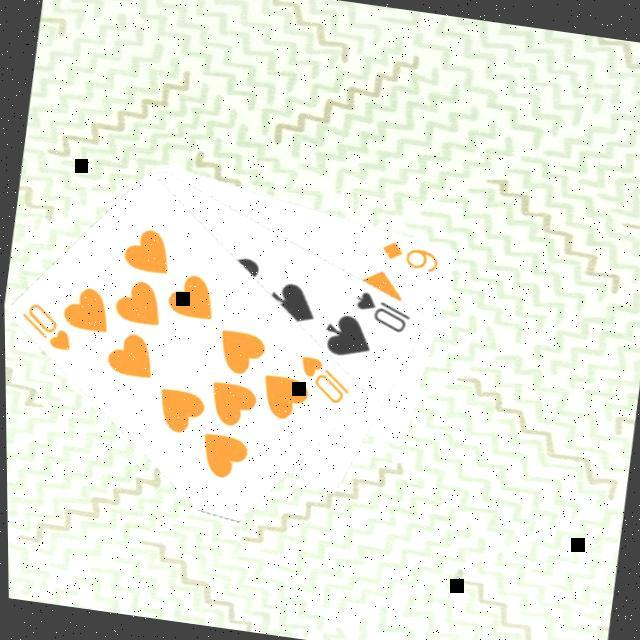10H: (14, 299, 80, 357), (292, 352, 357, 410)
10S: (348, 287, 417, 338)
6D: (376, 237, 444, 278)
